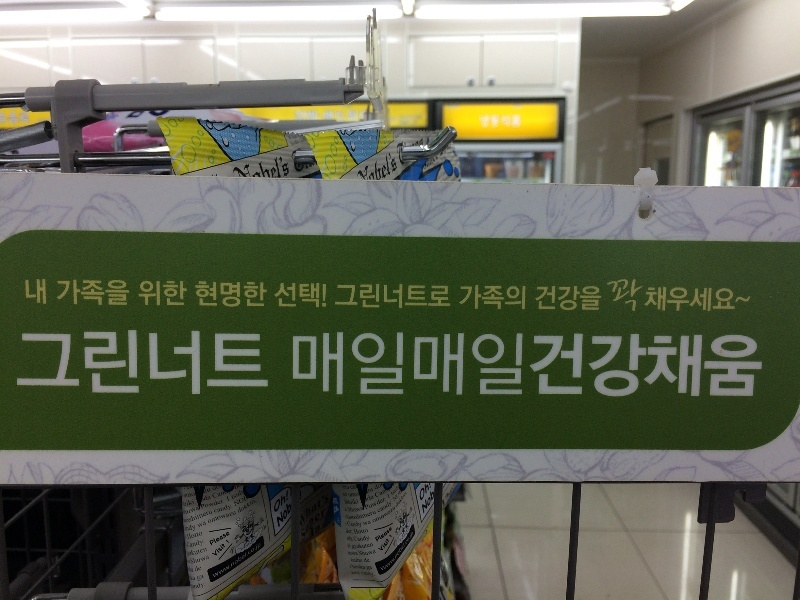text: (193, 485, 208, 597), (209, 485, 224, 597), (225, 485, 240, 597), (241, 485, 256, 597), (353, 483, 368, 589), (369, 483, 384, 589), (385, 483, 400, 589), (401, 483, 416, 589), (257, 485, 270, 597), (180, 485, 192, 597), (289, 330, 304, 402), (305, 330, 320, 402), (321, 330, 336, 402), (337, 330, 352, 402), (353, 330, 368, 402), (369, 330, 384, 402), (385, 330, 400, 402), (401, 330, 416, 402), (417, 330, 432, 402), (433, 330, 448, 402), (449, 330, 464, 402), (465, 330, 480, 402), (481, 330, 496, 402), (497, 330, 512, 402), (513, 330, 528, 402), (529, 330, 544, 402), (545, 330, 560, 402), (561, 330, 576, 402), (577, 330, 592, 402), (593, 330, 608, 402), (609, 330, 624, 402), (625, 330, 640, 402), (641, 330, 656, 402), (657, 330, 672, 402), (673, 330, 688, 402), (689, 330, 704, 402), (705, 330, 720, 402), (721, 330, 736, 402), (737, 330, 752, 402), (753, 330, 768, 402), (342, 483, 352, 589), (33, 333, 48, 399), (49, 333, 64, 399), (65, 333, 80, 399), (81, 333, 96, 399), (97, 333, 112, 399), (113, 333, 128, 399), (129, 333, 144, 399), (145, 333, 160, 399), (161, 333, 176, 399), (177, 333, 192, 399), (193, 333, 208, 399), (209, 333, 224, 399), (225, 333, 240, 399), (241, 333, 256, 399), (257, 333, 270, 399), (20, 333, 32, 399), (609, 277, 624, 314), (625, 277, 640, 314), (385, 150, 401, 183), (65, 277, 80, 307), (81, 277, 96, 307), (97, 277, 112, 307), (113, 277, 128, 307), (209, 280, 224, 310), (225, 280, 240, 310), (241, 280, 256, 310), (289, 280, 304, 310), (305, 280, 320, 310), (275, 499, 288, 533), (465, 284, 480, 313), (481, 284, 496, 313), (497, 284, 512, 313), (545, 284, 560, 313), (561, 284, 576, 313), (577, 284, 592, 313), (657, 285, 672, 314), (673, 285, 688, 314), (689, 285, 704, 314), (705, 285, 720, 314), (721, 285, 736, 314), (737, 285, 752, 314), (241, 154, 256, 183), (257, 154, 272, 183), (273, 154, 288, 183), (417, 483, 421, 589), (194, 280, 208, 310), (274, 280, 288, 310), (401, 138, 416, 166), (513, 284, 527, 313), (33, 278, 48, 305), (145, 280, 160, 307), (161, 280, 176, 307), (337, 283, 352, 310), (353, 283, 368, 310), (369, 283, 384, 310), (385, 283, 400, 310), (401, 283, 416, 310), (417, 283, 432, 310), (433, 283, 448, 310), (273, 489, 288, 516), (418, 477, 432, 504), (373, 150, 384, 183), (257, 280, 269, 310), (177, 280, 189, 307), (645, 285, 656, 314), (421, 488, 432, 517), (535, 284, 544, 313), (593, 284, 602, 313), (231, 154, 240, 183), (417, 138, 426, 166), (356, 164, 368, 183), (24, 278, 32, 305), (57, 277, 64, 307), (137, 280, 144, 307), (641, 277, 646, 314), (321, 280, 327, 310), (289, 499, 294, 533), (459, 284, 464, 313), (396, 138, 400, 166), (605, 277, 608, 314), (289, 154, 292, 183), (449, 283, 452, 310), (129, 277, 131, 307), (433, 488, 435, 517), (289, 489, 290, 516), (369, 164, 370, 183)
